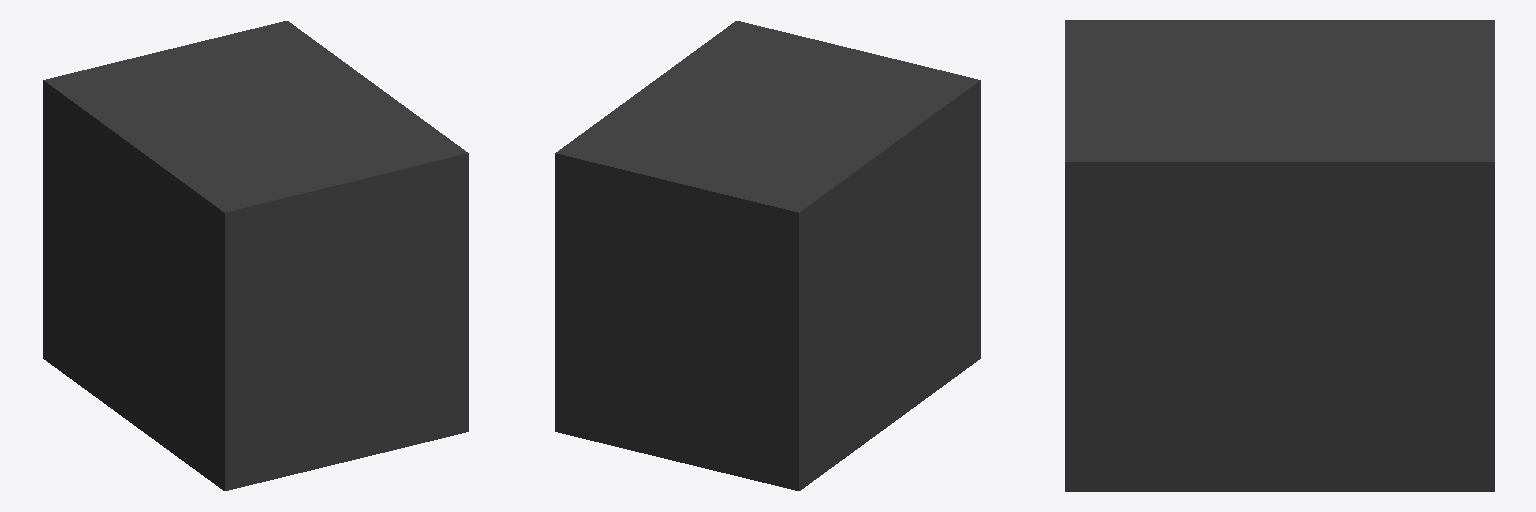
URDF robot description (box.urdf):
<?xml version="1.0" ?>
<robot name="box.urdf">
  <link name="baseLink">
    <contact>
      <lateral_friction value="1.0"/>
      <rolling_friction value="0.0001"/>
      <inertia_scaling value="3.0"/>
    </contact>
    <inertial>
      <origin rpy="0 0 0" xyz="0 0 0"/>
       <mass value="0.1"/>
       <inertia ixx="1" ixy="0" ixz="0" iyy="1" iyz="0" izz="1"/>
    </inertial>
    <visual>
      <origin rpy="0 0 0" xyz="0 0 0"/>
      <geometry>
        <!-- <box size="0.22 0.28300000000000003 0.24"/> -->
        <mesh filename="box/box.obj" scale="0.22 0.28300000000000003 0.24"/>
      </geometry>
      <material name="white">
        <color rgba="0.3 0.3 0.3 1"/>
      </material>
    </visual>
    <collision>
      <origin rpy="0 0 0" xyz="0 0 0"/>
      <geometry>
        <mesh filename="box/box.obj" scale="0.22 0.28300000000000003 0.24"/>
	 	    <!-- <box size="0.22 0.28300000000000003 0.24"/> -->
      </geometry>
    </collision>
  </link>
</robot>

--- Facts derived from the render (not from the file) ---
3 views of the same robot in one strip: view 1: azimuth 30°, elevation 25°; view 2: azimuth 150°, elevation 25°; view 3: azimuth 270°, elevation 25° (orthographic).
Robot: box.urdf — 1 links, 0 joints (none); root link baseLink; default pose: all joints at 0.
Links seen in each view (by area): view 1: baseLink; view 2: baseLink; view 3: baseLink.
Boxes of the visible links, x1,y1,x2,y2 form: baseLink: [43, 21, 468, 490]; baseLink: [555, 21, 980, 490]; baseLink: [1065, 20, 1494, 491].
Bounding box of the posed robot: 0.22 × 0.283 × 0.24 m (x, y, z).
1 mesh visuals loaded from 1 distinct referenced files (1 OBJ).
